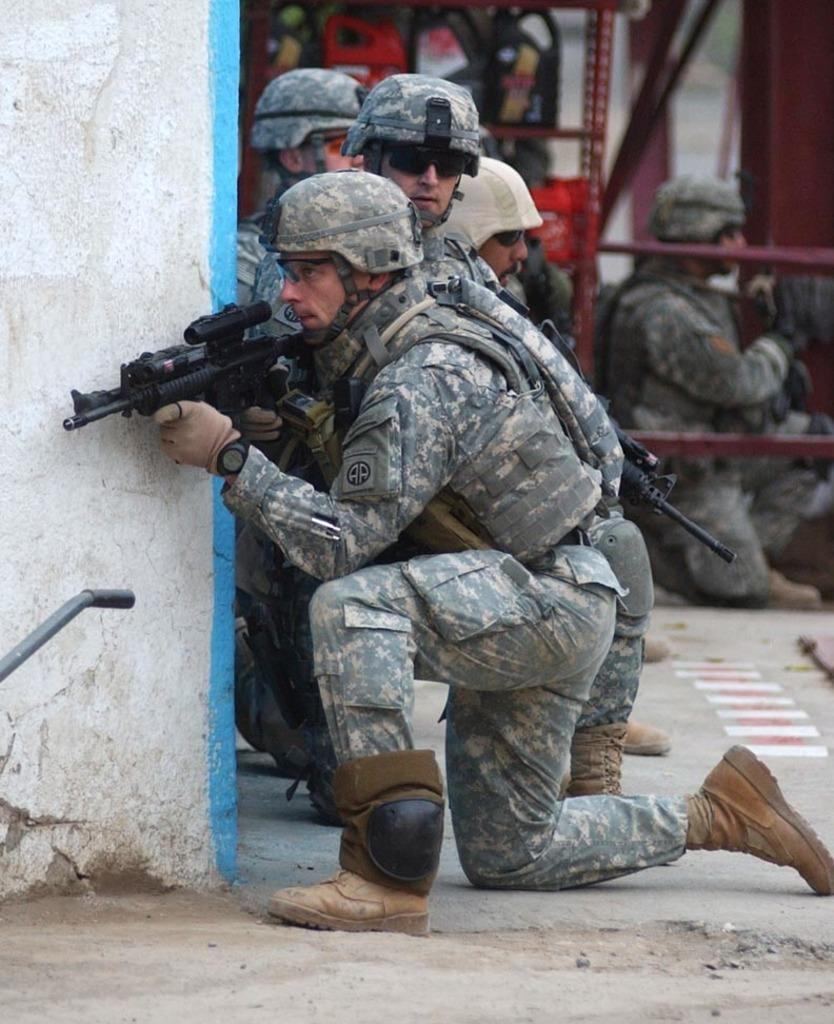Shotgun: (74, 298, 318, 435), (604, 396, 736, 568)
